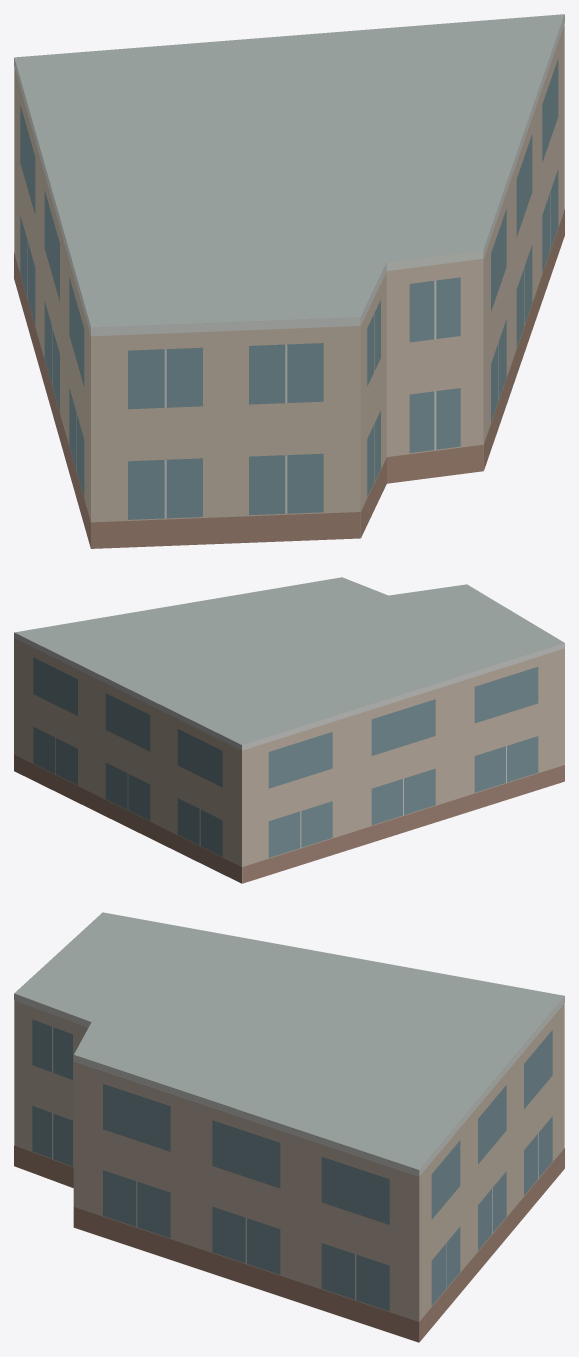
The model's file is survey-upis-32713292.glb.
The picture shows the model from 3 angles, top to bottom: view 1: azimuth 30°, elevation 25°; view 2: azimuth 150°, elevation 25°; view 3: azimuth 270°, elevation 25°; orthographic projection. The views are drawn at different scales.
Visible parts, largest first — view 1: survey-upis-32713292.tmp; view 2: survey-upis-32713292.tmp; view 3: survey-upis-32713292.tmp.
Boxes of the visible parts, bbox=[...] form: survey-upis-32713292.tmp: bbox=[14, 14, 564, 548]; survey-upis-32713292.tmp: bbox=[14, 577, 564, 883]; survey-upis-32713292.tmp: bbox=[14, 912, 564, 1342].
Size of the model in its own units: 19.52 by 6.1 by 17.64.
